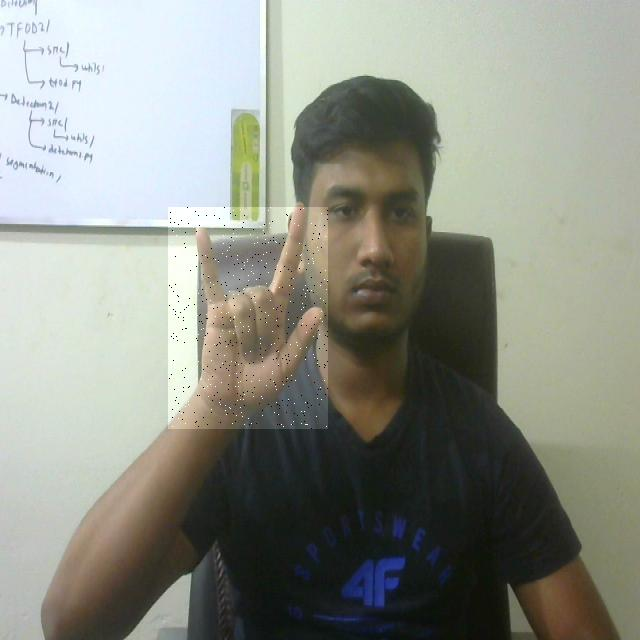IloveYou: (168, 207, 328, 429)
